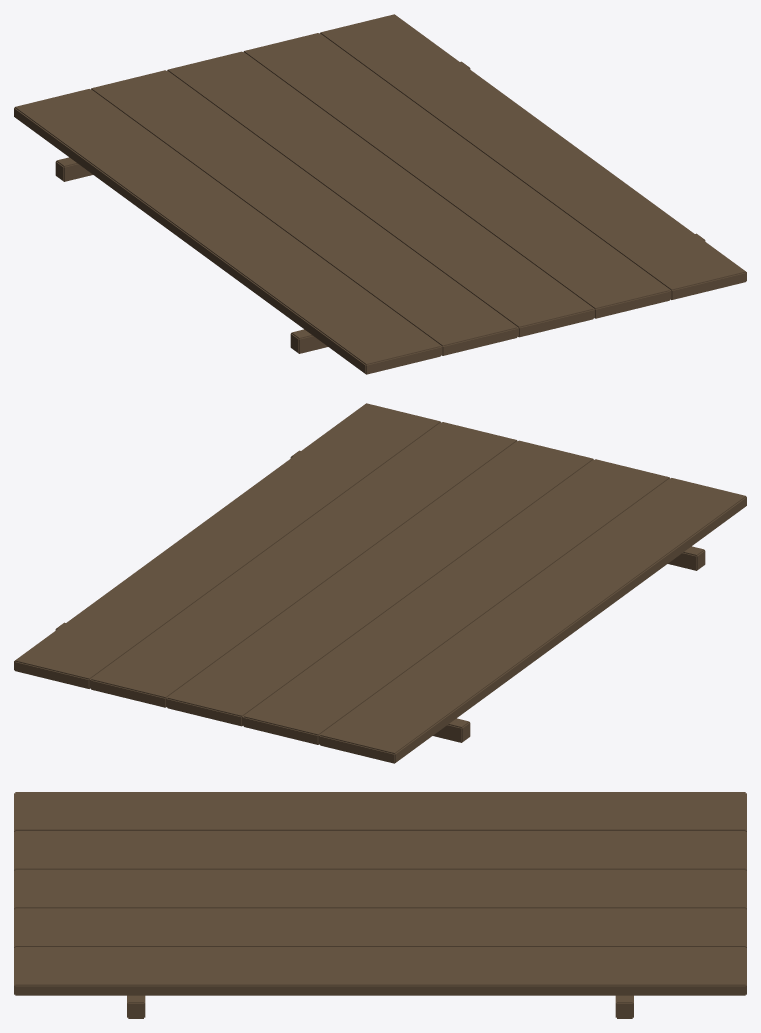
Rendered from plank_bridge.glb.
3 renders of one model, top to bottom at view 1: azimuth 30°, elevation 25°; view 2: azimuth 150°, elevation 25°; view 3: azimuth 270°, elevation 25°, orthographic. The views are drawn at different scales.
Parts seen in each view (by area): view 1: planks; view 2: planks; view 3: planks.
Part boxes in pixels (bbox=[...]): planks: bbox=[14, 14, 746, 374]; planks: bbox=[14, 403, 746, 763]; planks: bbox=[14, 792, 746, 1018].
Size of what is drawn, in the model's own units: 1.6 by 0.1 by 2.4.
